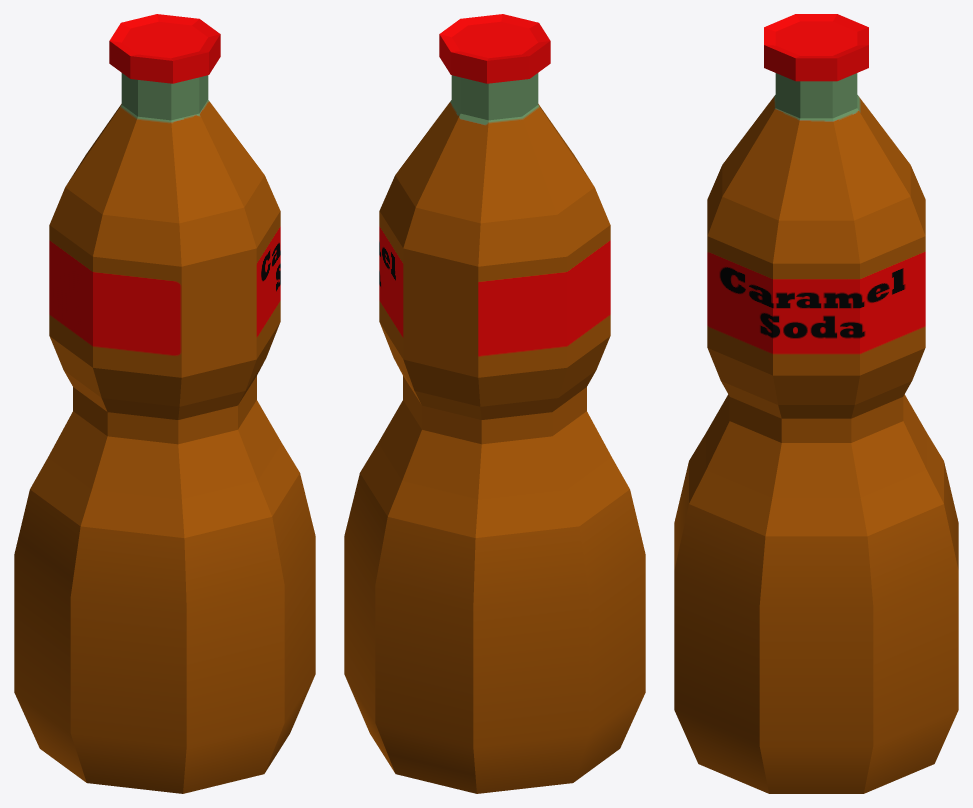
The model's file is soda_bottle.fbx.
The picture shows the model from 3 angles, left to right: view 1: azimuth 30°, elevation 25°; view 2: azimuth 150°, elevation 25°; view 3: azimuth 270°, elevation 25°; orthographic projection.
Visible parts, largest first — view 1: pCube1; view 2: pCube1; view 3: pCube1.
Boxes of the visible parts, x1,y1,x2,y2 form: pCube1: (14,14,315,793); pCube1: (344,14,645,793); pCube1: (674,14,958,793).
Bounding box in the file's own units: 1 × 2.74 × 1.
